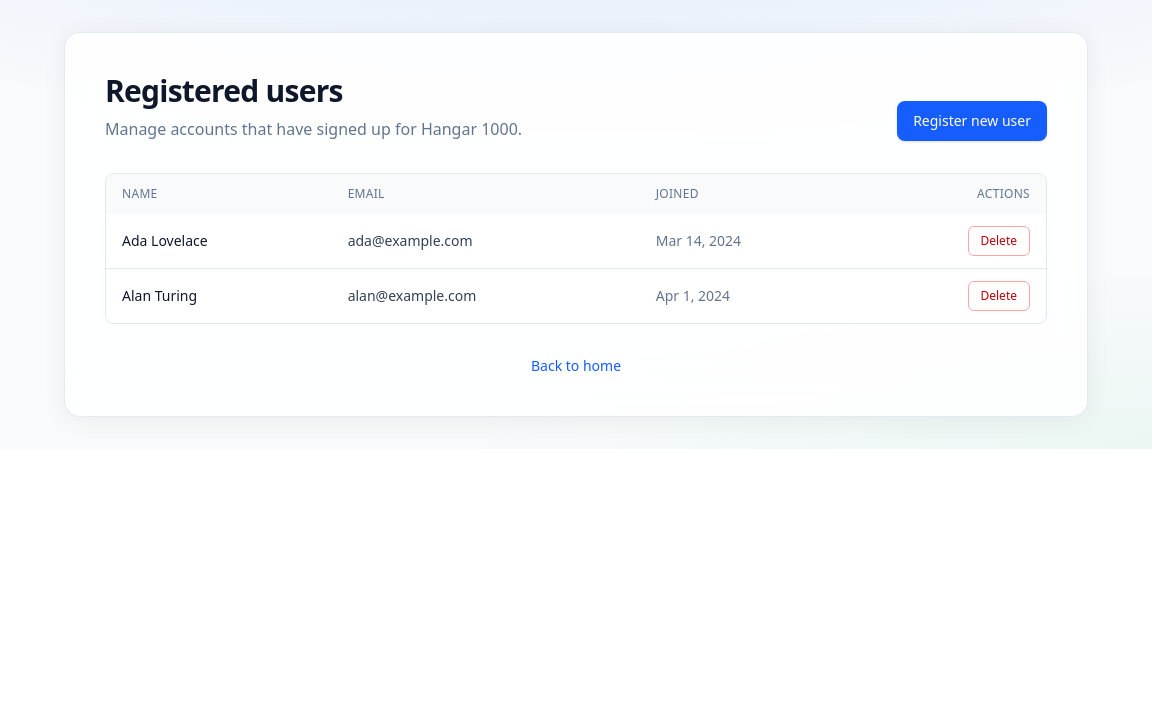
Test: UserListPage › deletes a user after confirmation and removes the row
Step 1. Click the button "Delete" in the row of "Lovelace" → (999, 241), box [968,226,1030,256]
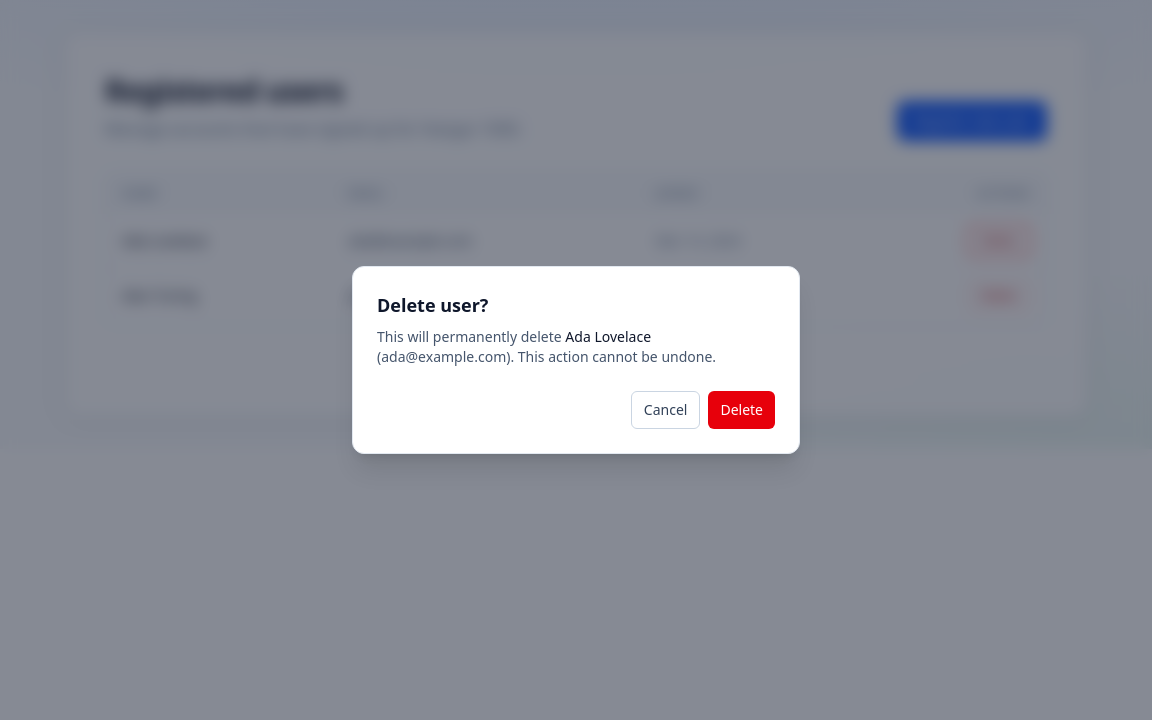
Expected: the heading "Delete user?" is shown, [377,293,488,317]
Step 2. Click the button "Delete" → (742, 410), box [708,391,775,429]
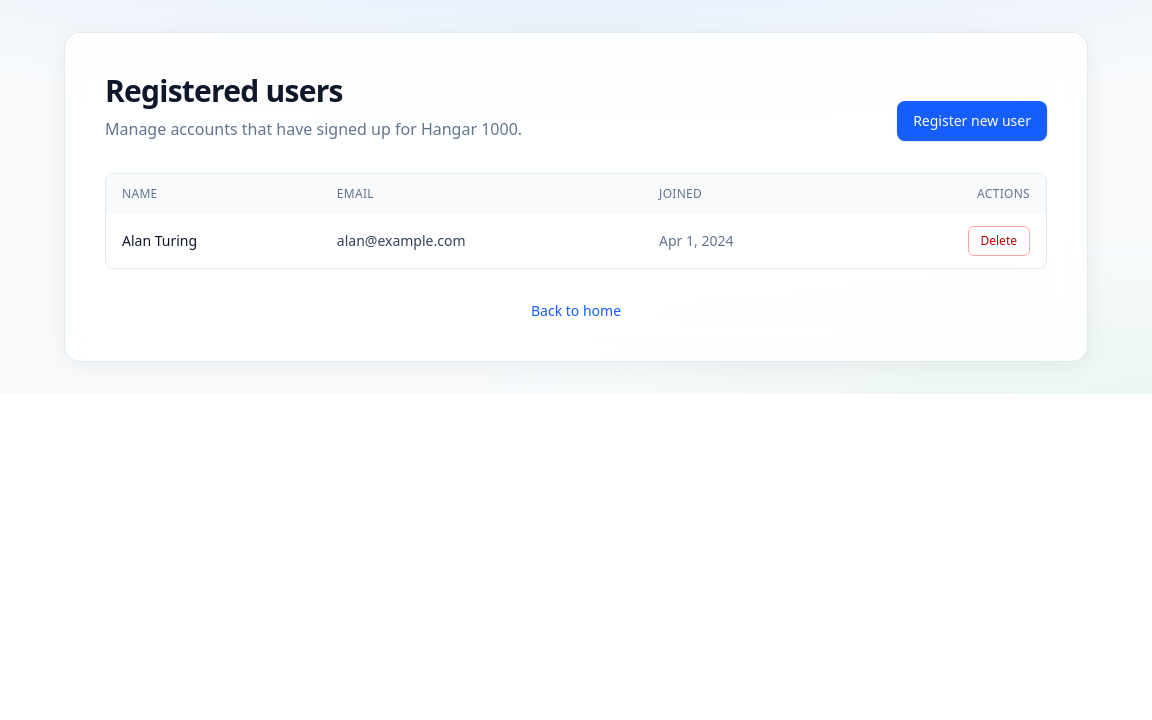
Expected: the text "Alan Turing" is shown, [106,214,321,268]
Expected: the text "Ada Lovelace" is gone
